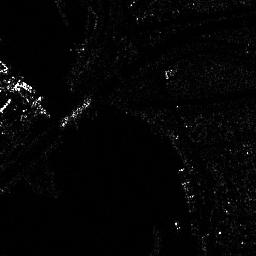ship: (59, 93, 95, 127)
